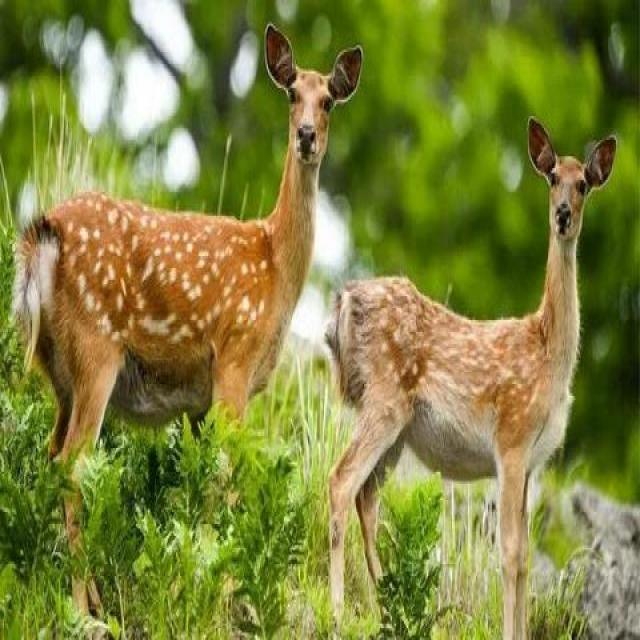deer: (5, 17, 338, 538), (307, 73, 607, 595)
